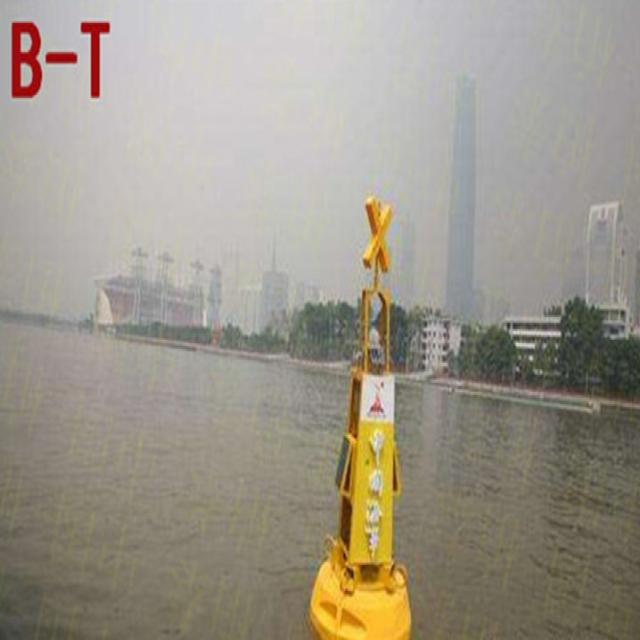buoy: (308, 183, 416, 640)
